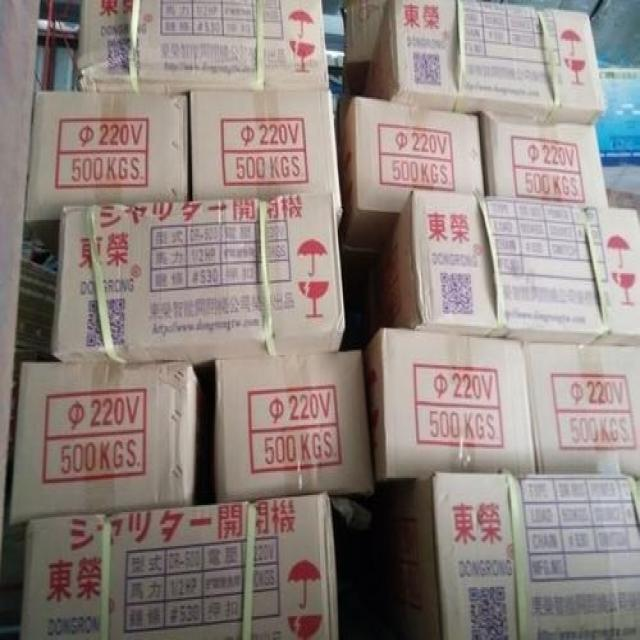box: (50, 193, 346, 389), (20, 497, 339, 640), (379, 471, 639, 638), (375, 188, 639, 345), (342, 0, 604, 125), (10, 360, 204, 527), (26, 89, 189, 261), (362, 326, 539, 483), (337, 94, 485, 266), (212, 350, 375, 503), (73, 0, 330, 89), (187, 89, 344, 229), (525, 338, 640, 478), (479, 111, 609, 207)
